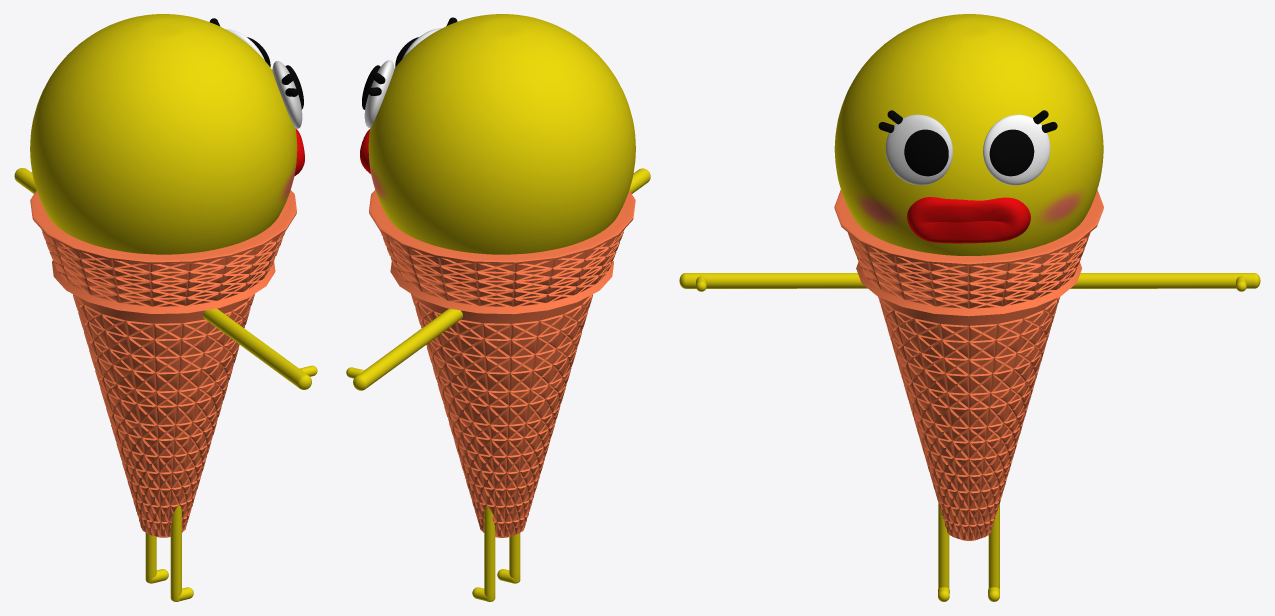
Rendered from sarah g lato gumball.glb.
3 renders of one model, left to right at view 1: azimuth 30°, elevation 25°; view 2: azimuth 150°, elevation 25°; view 3: azimuth 270°, elevation 25°, orthographic.
Visible parts, largest first — view 1: Sphere, pCone1, Sphere.002, Sphere.004, Sphere.009, Sphere.003; view 2: Sphere, pCone1, Sphere.001, Sphere.003, Sphere.010, Sphere.004; view 3: Sphere, pCone1, Sphere.017, Sphere.001, Sphere.002, Sphere.009, Sphere.010, Sphere.012, Sphere.011, Sphere.004, Sphere.003.
Boxes of the visible parts, <box> form: Sphere: <box>30,14,297,254</box>; pCone1: <box>30,190,296,537</box>; Sphere.002: <box>203,308,311,389</box>; Sphere.004: <box>170,505,181,601</box>; Sphere.009: <box>272,61,302,128</box>; Sphere.003: <box>145,533,156,583</box>; Sphere: <box>368,14,635,254</box>; pCone1: <box>369,190,635,537</box>; Sphere.001: <box>353,308,462,390</box>; Sphere.003: <box>484,506,495,601</box>; Sphere.010: <box>364,60,394,127</box>; Sphere.004: <box>509,533,520,583</box>; Sphere: <box>834,14,1103,255</box>; pCone1: <box>834,190,1103,540</box>; Sphere.017: <box>907,197,1030,243</box>; Sphere.001: <box>1070,273,1260,288</box>; Sphere.002: <box>679,273,867,288</box>; Sphere.009: <box>885,114,952,185</box>; Sphere.010: <box>983,114,1050,185</box>; Sphere.012: <box>904,129,948,176</box>; Sphere.011: <box>989,129,1034,176</box>; Sphere.004: <box>938,503,949,588</box>; Sphere.003: <box>988,503,999,588</box>.
Size of the model in its own units: 1.25 by 2.87 by 2.66.
Materials: 14 (1 with a texture image).
